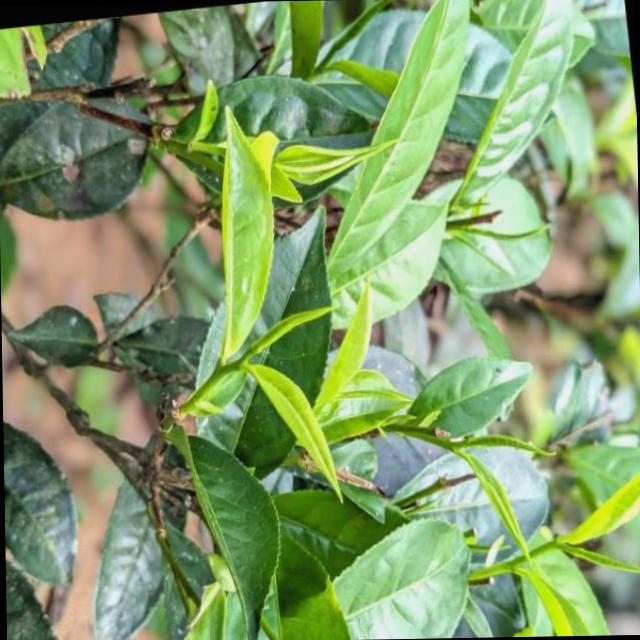Stem: (540, 539, 556, 552), (312, 64, 323, 76), (442, 441, 455, 451), (228, 359, 238, 372)
